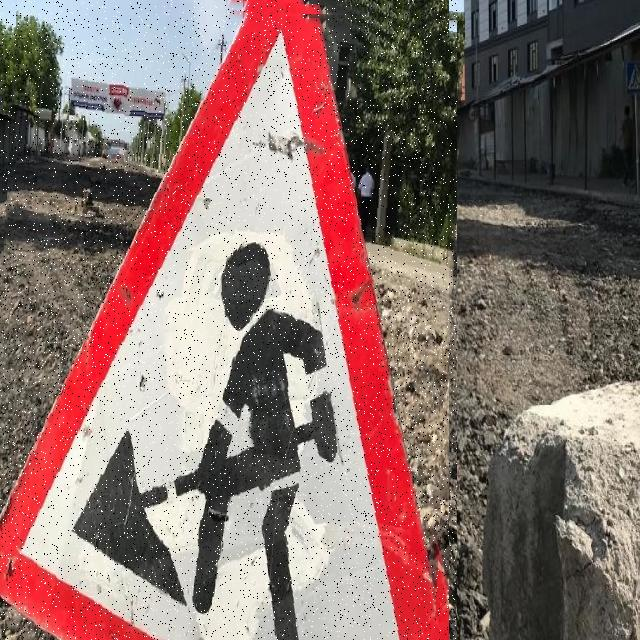roadwork: (0, 0, 457, 640)
